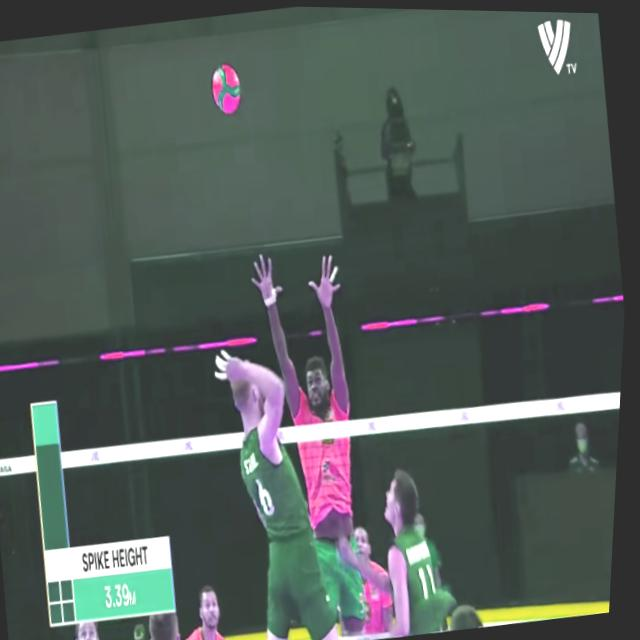player: (238, 240, 396, 640), (201, 332, 361, 640), (373, 459, 472, 638), (347, 513, 408, 637), (178, 579, 240, 640)
